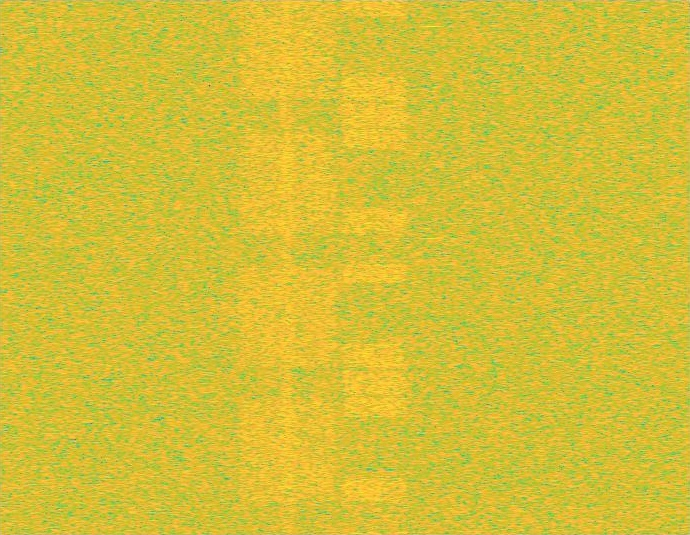5G: (235, 0, 339, 534)
DSSS: (280, 0, 294, 534)
LTE: (340, 0, 409, 534)
Radar: (424, 0, 438, 534)
